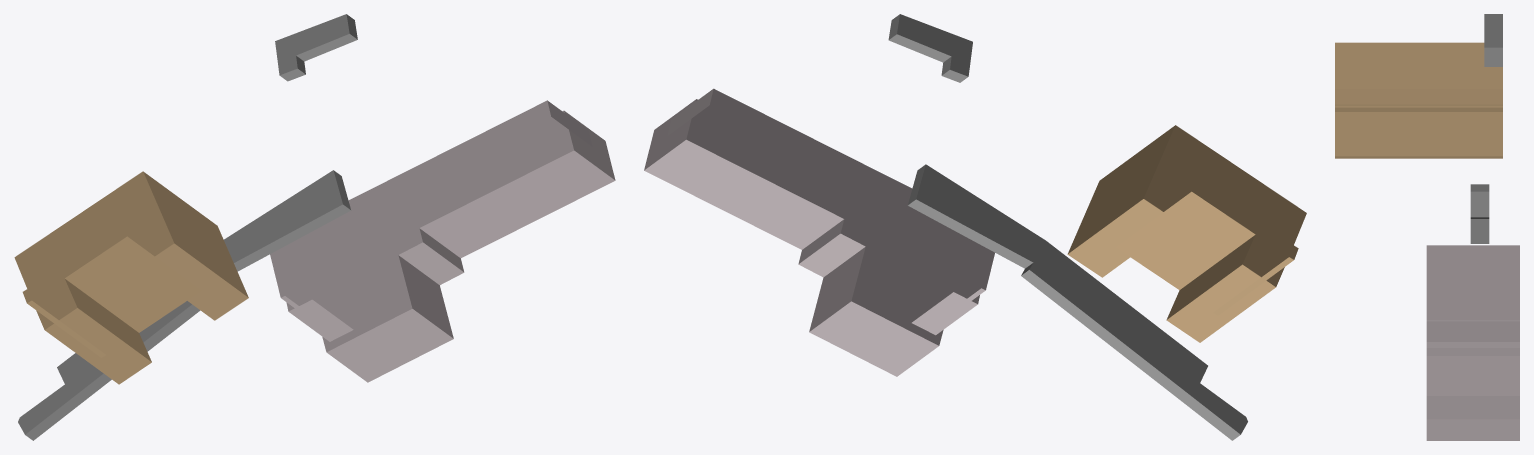
3 views of the same model, side by side, from view 1: azimuth 30°, elevation 25°; view 2: azimuth 150°, elevation 25°; view 3: azimuth 270°, elevation 25° (orthographic). The views are drawn at different scales.
Parts seen in each view (by area): view 1: 0_3_0_1_2_1_1_2; view 2: 0_3_0_1_2_1_1_2; view 3: 0_3_0_1_2_1_1_2.
Boxes of the visible parts, left/top/right/bottom form: 0_3_0_1_2_1_1_2: left=14, top=14, right=615, bottom=440; 0_3_0_1_2_1_1_2: left=644, top=14, right=1306, bottom=440; 0_3_0_1_2_1_1_2: left=1335, top=14, right=1519, bottom=440.
Size of the model in its own units: 119 by 68.1 by 29.7.
